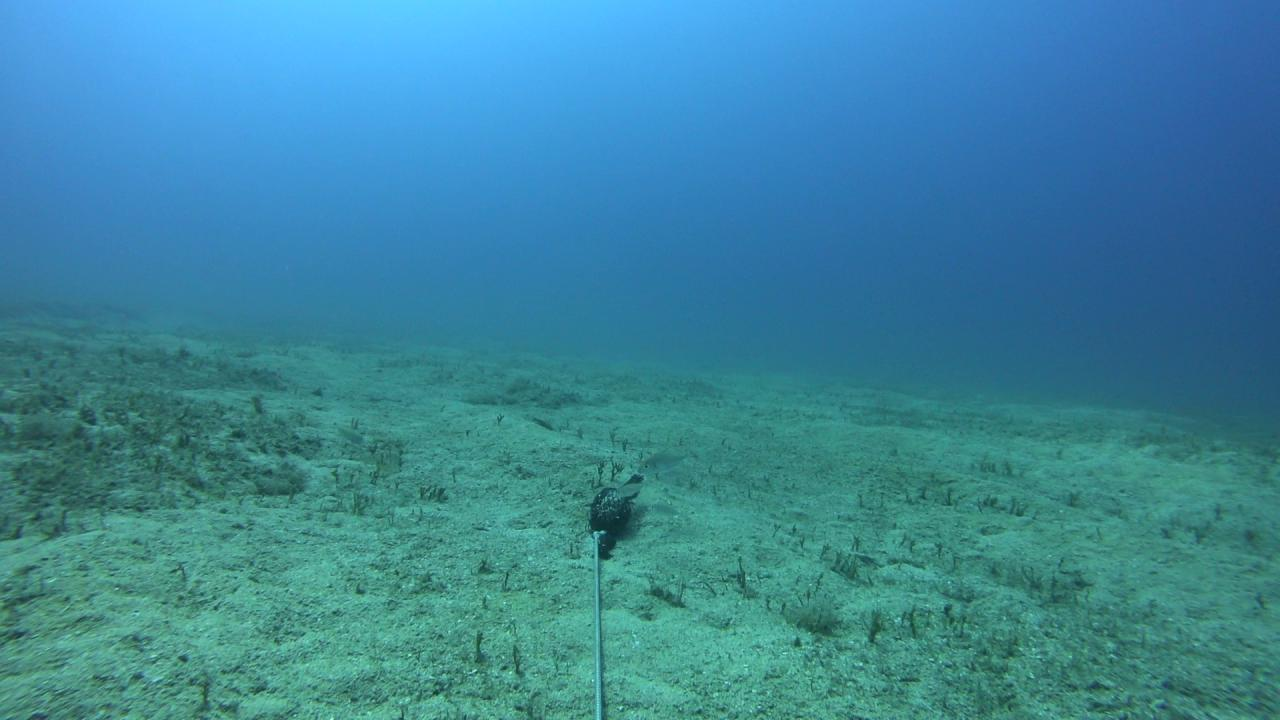pagellus: (634, 446, 697, 475), (618, 479, 650, 498)
